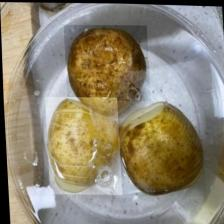Potato: (115, 98, 205, 197), (63, 22, 151, 118), (44, 95, 121, 195)
